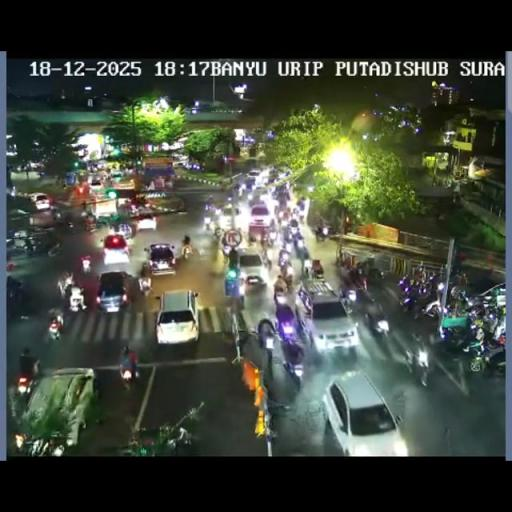Car: (14, 367, 98, 452), (322, 371, 406, 455), (298, 284, 356, 354), (155, 288, 199, 346), (96, 270, 131, 312), (237, 248, 267, 290), (145, 242, 177, 276), (102, 234, 131, 265), (248, 204, 272, 238), (134, 212, 157, 230), (28, 192, 50, 210), (89, 176, 105, 190), (110, 170, 123, 182), (248, 169, 261, 178)
Motorcycle: (262, 185, 310, 278), (399, 270, 441, 316), (462, 329, 504, 374), (352, 288, 390, 336), (278, 334, 306, 382), (402, 337, 430, 384), (438, 314, 474, 350), (15, 354, 39, 396), (163, 426, 193, 455), (14, 433, 48, 457), (258, 320, 276, 362), (117, 356, 137, 390), (66, 284, 88, 312), (42, 433, 70, 455), (46, 307, 64, 340), (6, 276, 24, 308), (463, 298, 489, 320), (107, 217, 133, 238), (489, 309, 506, 341), (138, 260, 154, 293), (348, 268, 368, 294), (449, 284, 472, 306), (6, 237, 26, 262), (278, 258, 294, 284), (292, 232, 307, 256), (314, 222, 332, 240), (366, 266, 384, 284), (210, 220, 224, 242), (202, 210, 216, 230), (94, 215, 112, 230), (311, 259, 324, 279), (46, 242, 62, 258), (282, 225, 296, 243), (454, 271, 468, 288), (242, 178, 256, 194), (181, 242, 193, 260), (24, 237, 36, 255), (302, 258, 312, 278), (80, 254, 91, 272), (83, 218, 96, 233), (279, 206, 291, 222), (204, 194, 214, 212), (50, 206, 62, 220), (128, 202, 140, 216), (222, 242, 232, 257), (268, 218, 277, 234), (6, 184, 16, 198), (282, 187, 290, 203), (298, 210, 306, 224), (237, 185, 245, 199), (65, 220, 75, 230), (214, 205, 222, 216), (106, 176, 114, 186), (226, 195, 232, 205)
